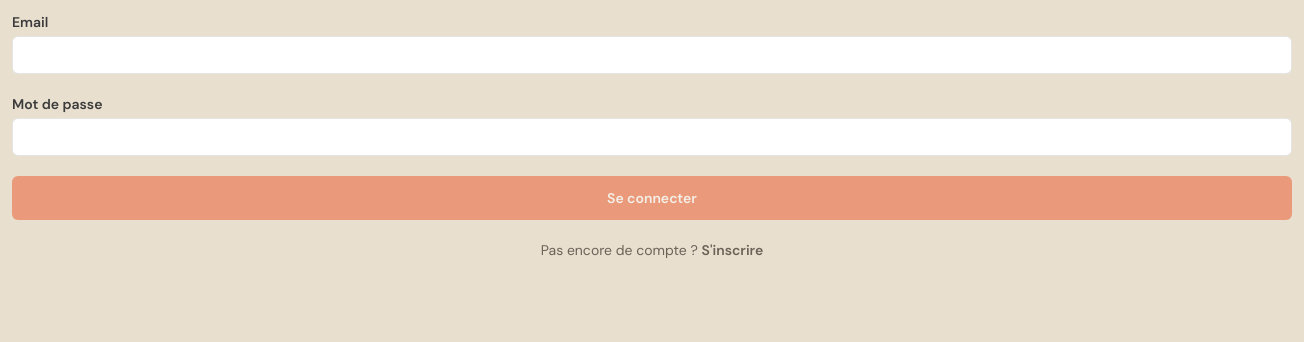
Test: LoginForm › affiche une erreur si les credentials sont invalides (401)
Type "jean@email.com" into the field labelled "Email". click: (652, 55)
box: [12,36,1292,74]
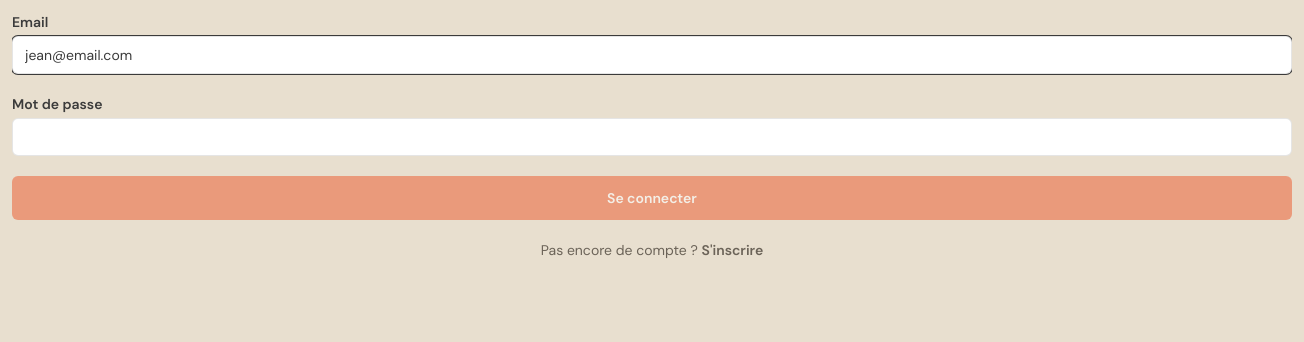
Type "mauvais" into the password field labelled "Mot de passe". click: (652, 137)
box: [12,118,1292,156]
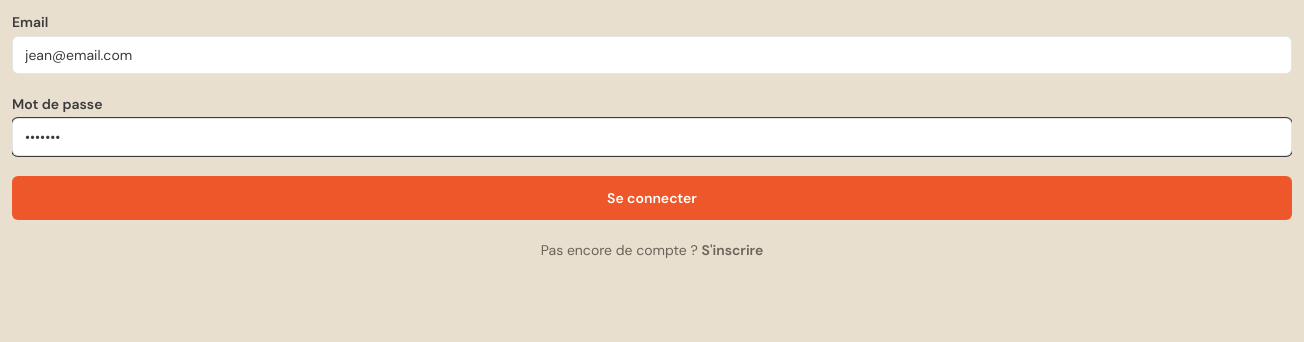
Click the button "Se connecter". click: (652, 198)
box: [12,176,1292,220]
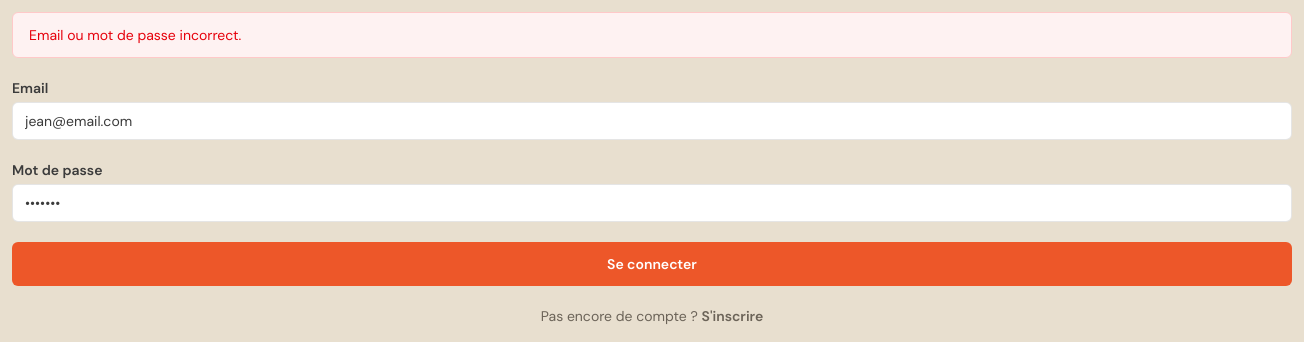
Expected: the message reads "Email ou mot de passe incorrect.", [29,26,241,44]
